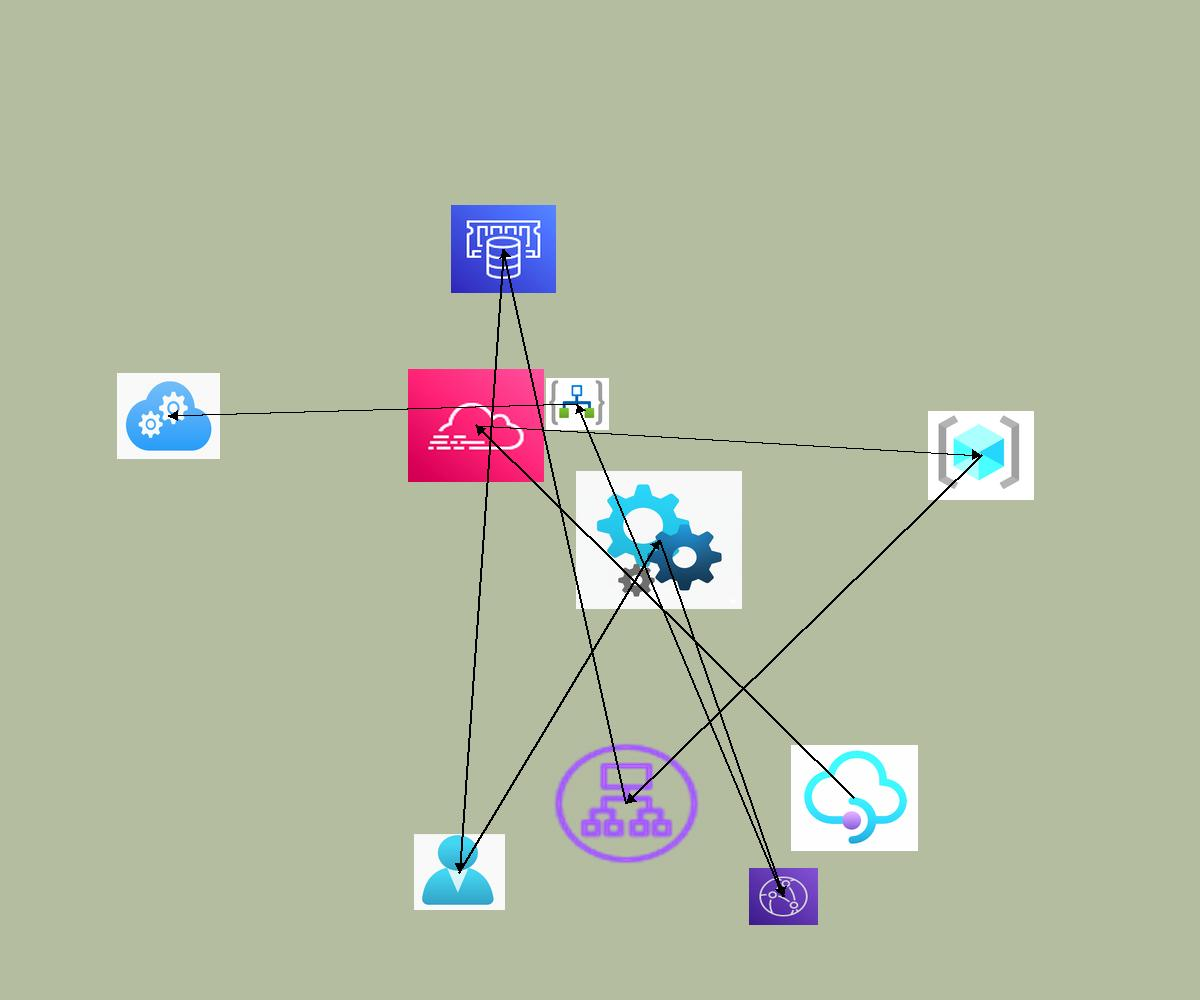AWS-CloudFront: (749, 868, 818, 925)
AWS-CloudTrail: (408, 369, 544, 482)
AWS-ElastiCache: (451, 205, 556, 293)
AWS-Res_Elastic-Load-Balancing_Application-Load-Balancer: (549, 739, 704, 868)
Azure_api: (576, 471, 742, 609)
Azure_api_gateway: (791, 745, 918, 851)
Azure_cloud_services: (117, 373, 220, 459)
Azure_integration-204-Logic-Apps: (546, 378, 609, 430)
Azure_resource_group: (928, 411, 1034, 500)
Azure_users: (414, 834, 505, 910)
